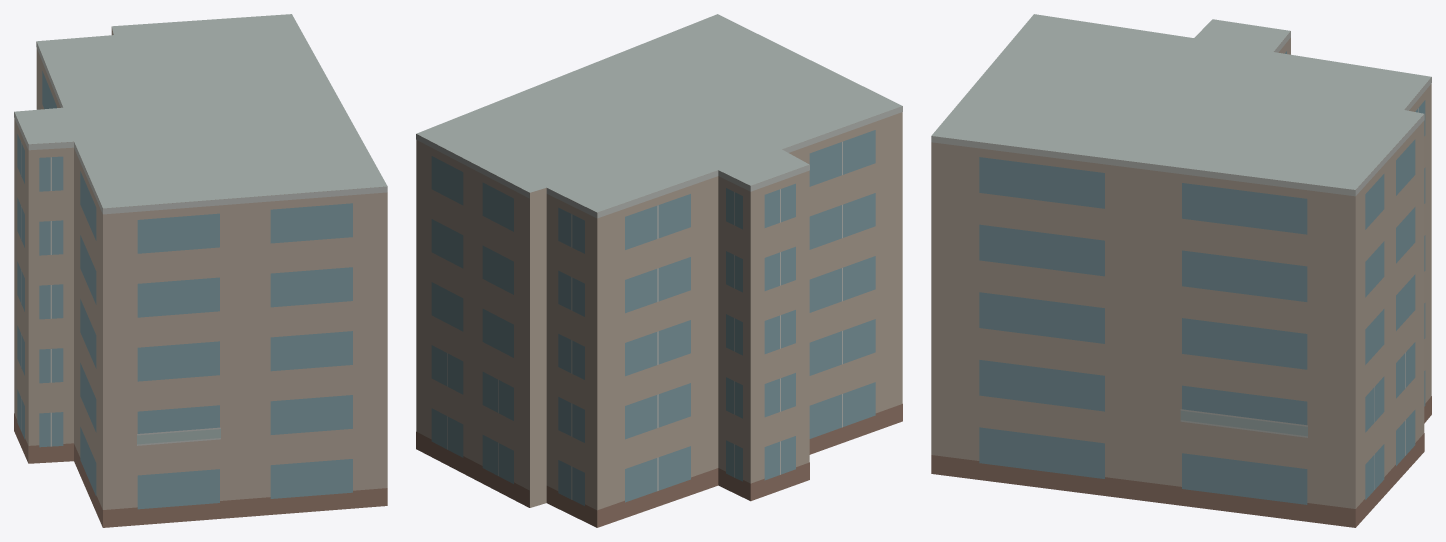
The model's file is survey-upis-33041567.glb.
The picture shows the model from 3 angles, left to right: view 1: azimuth 30°, elevation 25°; view 2: azimuth 150°, elevation 25°; view 3: azimuth 270°, elevation 25°; orthographic projection. The views are drawn at different scales.
Visible parts, largest first — view 1: survey-upis-33041567.tmp; view 2: survey-upis-33041567.tmp; view 3: survey-upis-33041567.tmp.
Part boxes in pixels (<box>): survey-upis-33041567.tmp: <box>14,14,387,527</box>; survey-upis-33041567.tmp: <box>416,14,902,527</box>; survey-upis-33041567.tmp: <box>931,14,1431,527</box>.
Size of the model in its own units: 14.53 by 13 by 17.46.
